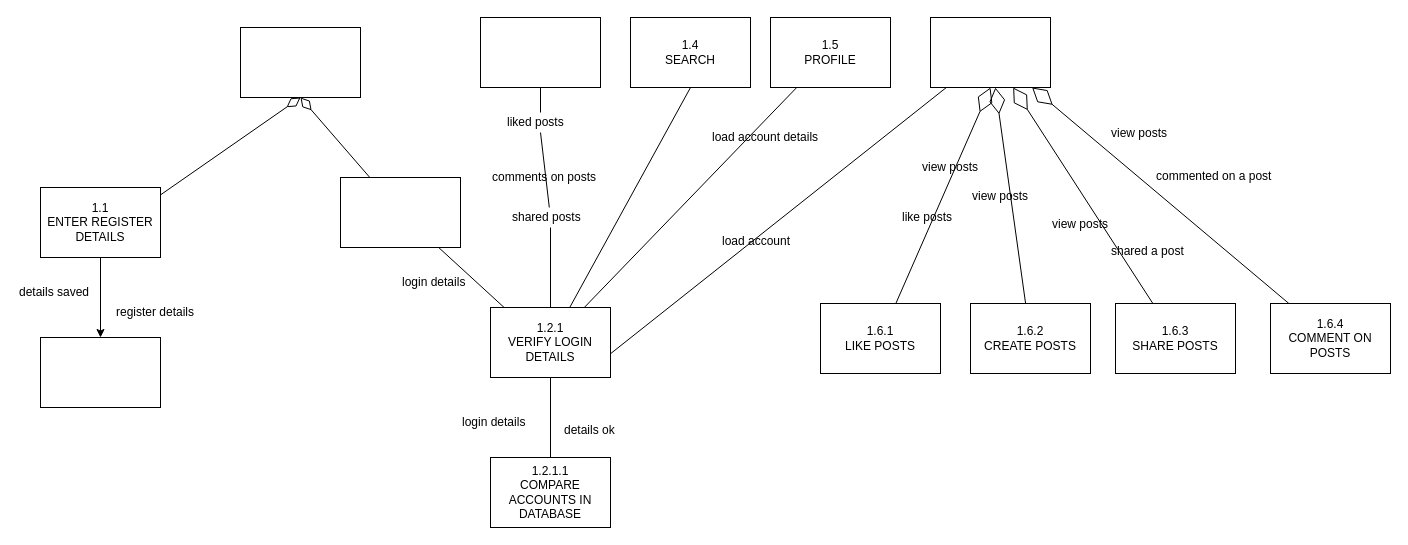
The diagram is 1408 pixels wide and 545 high, and some of its shapes have lost their labels. Each missing label, with the box of its shape:
1.0 LOAD PROGRAM: (240, 26, 360, 98)
1.1.1 SAVE IT IN THE DATABASE: (40, 336, 160, 408)
1.2 ENTER LOGIN DETAILS: (340, 176, 460, 248)
1.3 `NOTIFICATION: (480, 16, 600, 88)
1.6 VIEW HOME: (930, 16, 1050, 88)
